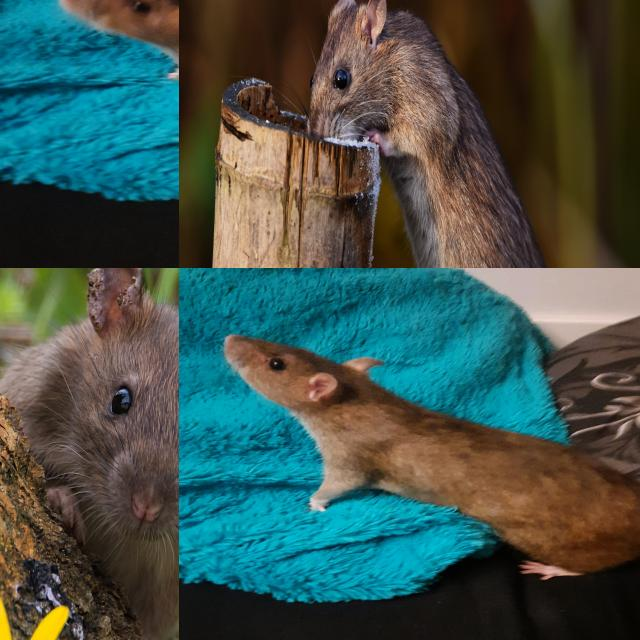rat: (219, 331, 640, 578), (310, 0, 566, 268), (6, 268, 179, 619), (58, 0, 179, 174)
